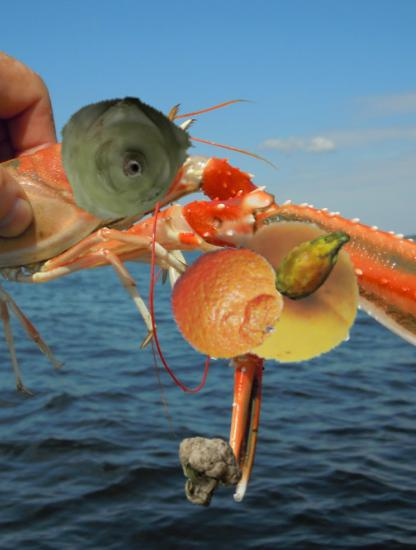Cactus: (268, 216, 361, 309)
Cauliflower: (172, 435, 246, 509)
Kohlrabi: (57, 91, 195, 229)
Mandarine: (168, 245, 284, 361)
Peach: (220, 223, 364, 367)
